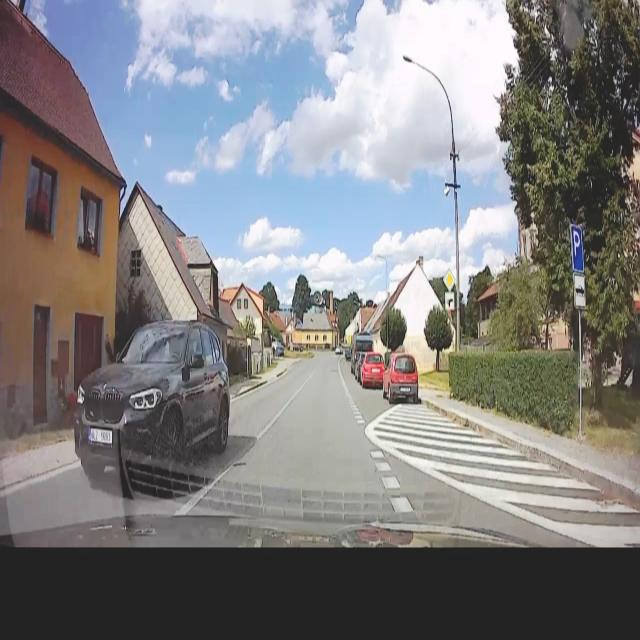Priority road: (442, 266, 457, 292)
